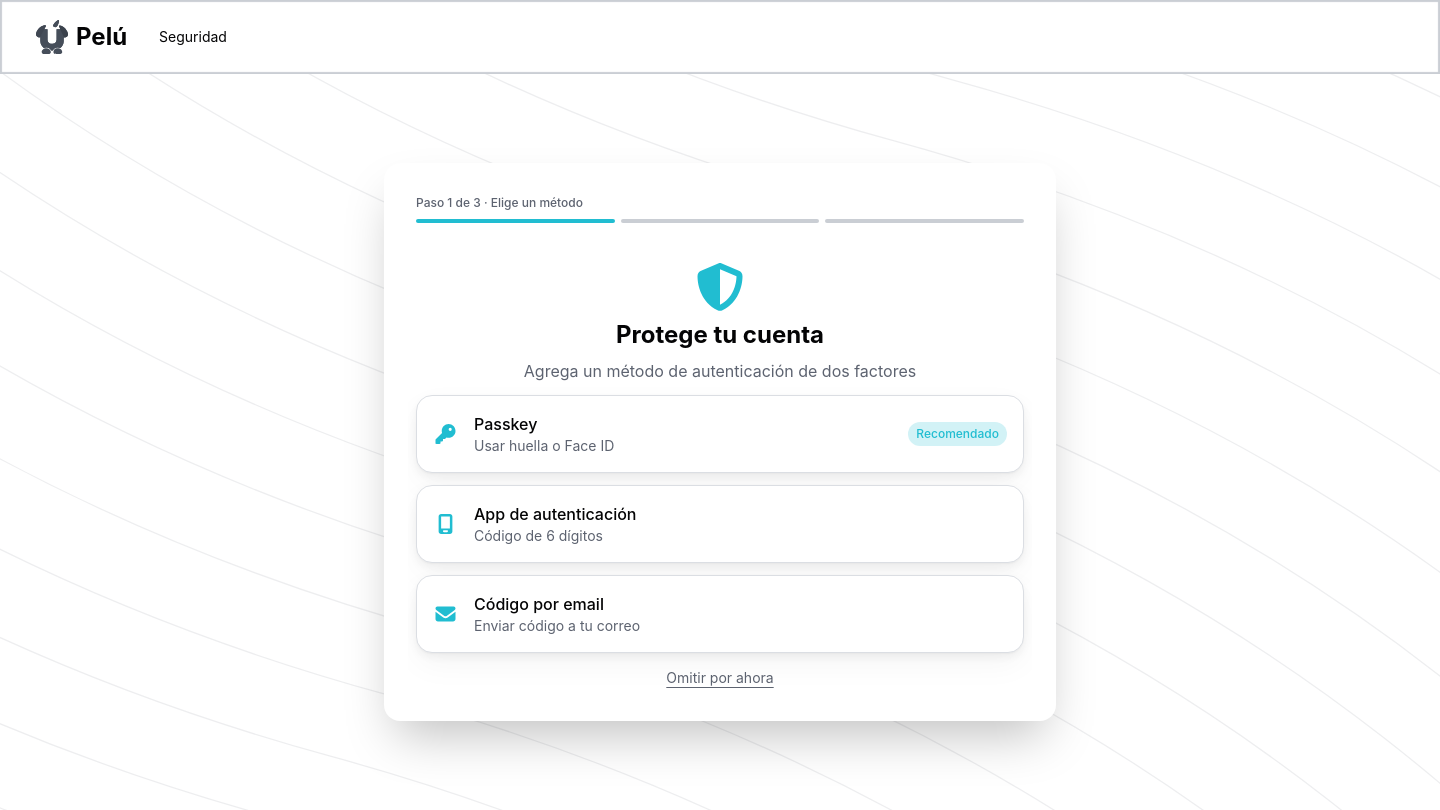
Test: MfaEnrollment — email OTP must not fail silently › locks the skip button while an enable is in flight so the recovery codes still render
This screenshot has width=1440, height=810.
Step 1. Click the button "Código por email Enviar código a tu correo" → x=539, y=604, box [416,575,1024,653]
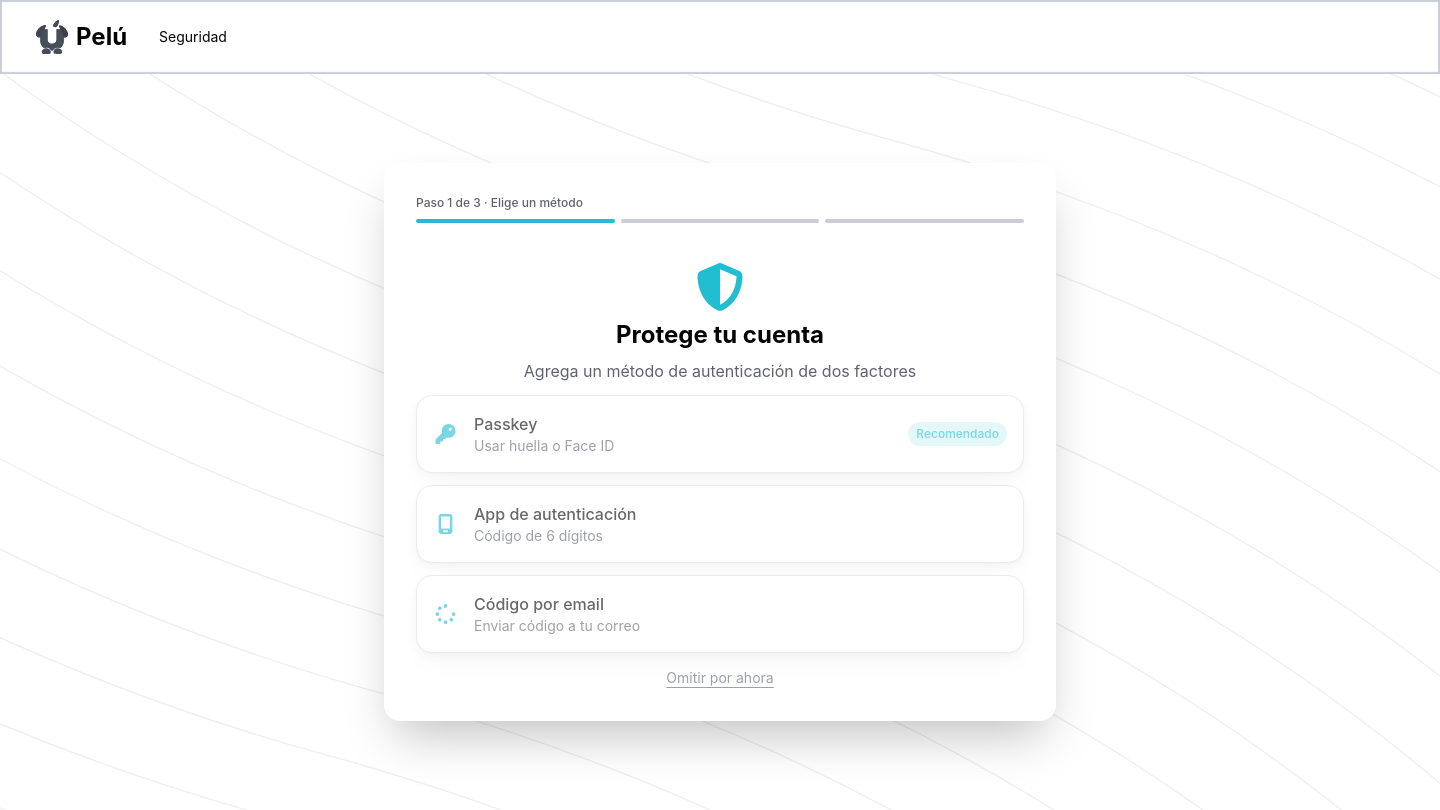
Check: the button "Omitir por ahora" is disabled
Step 2. Click the button "Omitir por ahora" → x=720, y=678, box [416,668,1024,688]
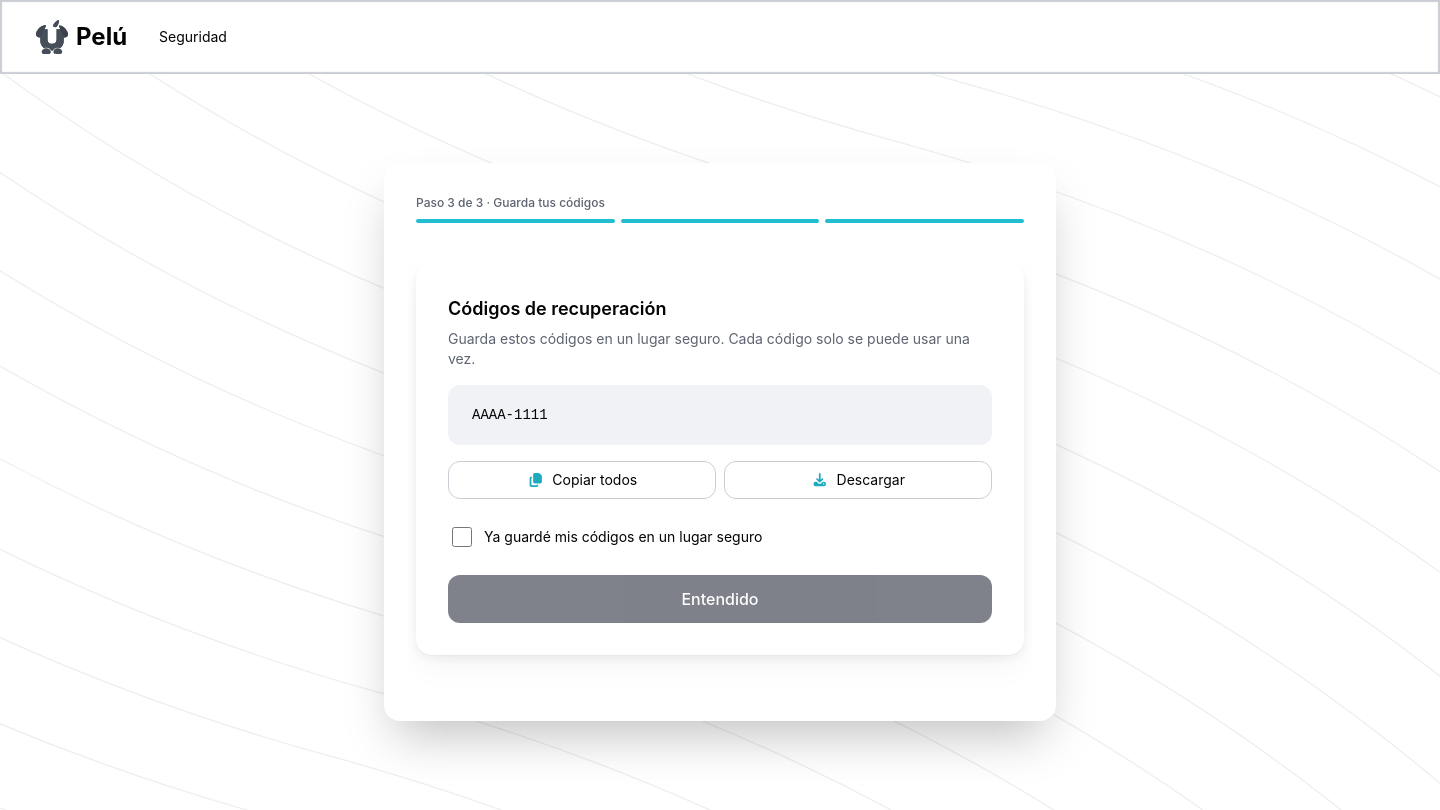
Check: the text "AAAA-1111" is shown, box [472,407,548,423]
